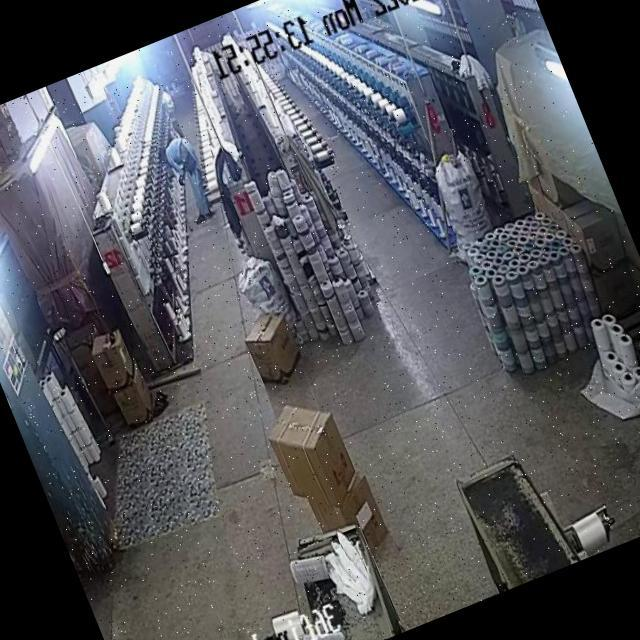person: (156, 132, 218, 225)
